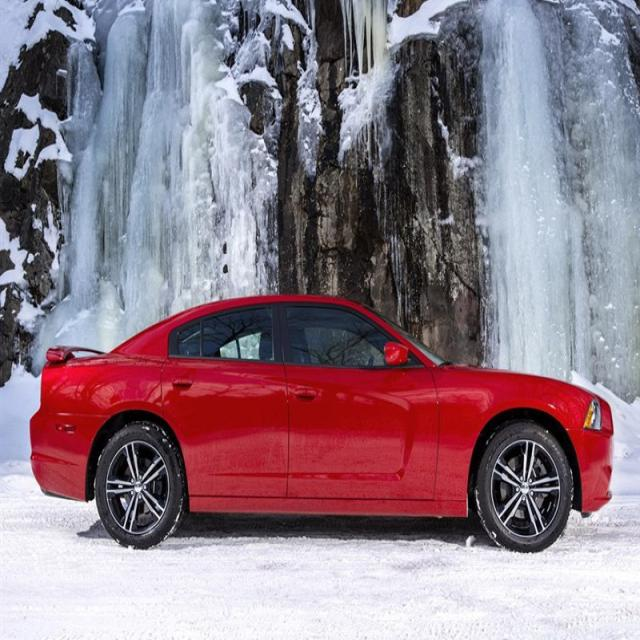door: (156, 299, 289, 516)
front_bumper: (565, 422, 615, 519)
front_right_side_door: (276, 296, 442, 507)
front_right_side_light: (582, 395, 606, 435)
front_right_side_mirror: (382, 338, 411, 370)
rear_bumper: (29, 402, 111, 503)
wheel: (476, 419, 574, 555), (97, 421, 184, 551)
